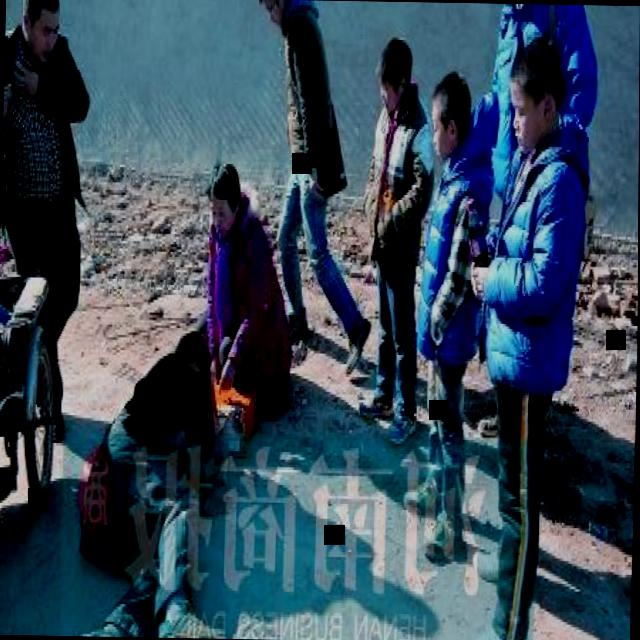Fall-Detected: (67, 290, 250, 638)
